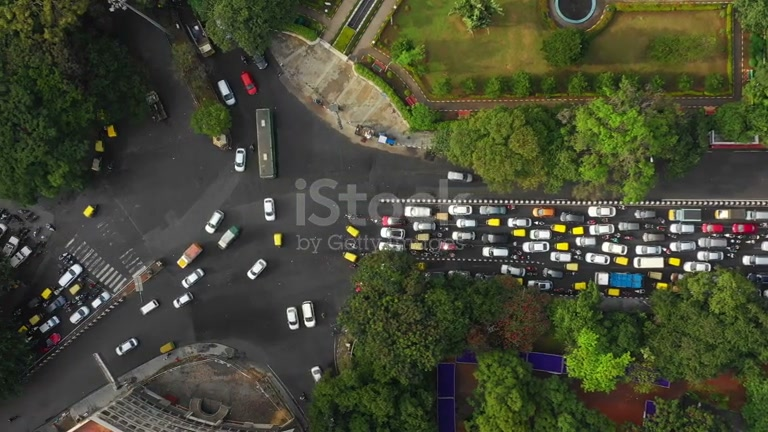car: (176, 242, 204, 270), (217, 225, 241, 250), (205, 209, 225, 234)
